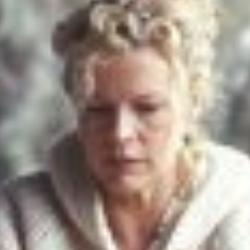face: (34, 2, 217, 199)
